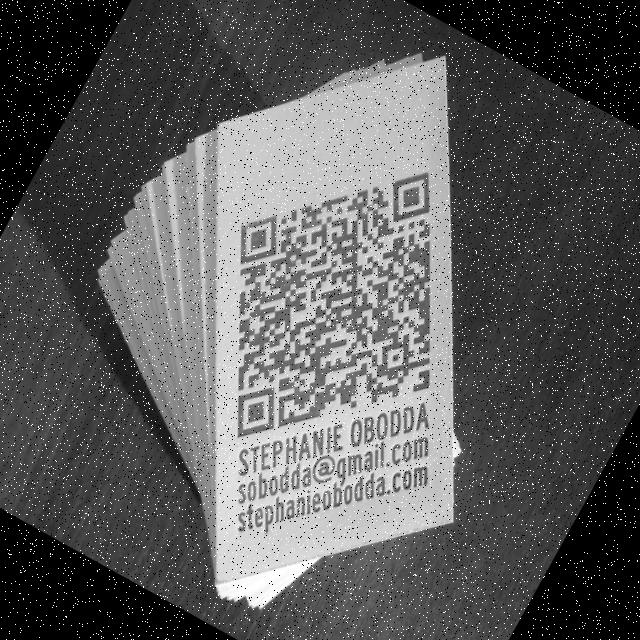QR-codes: (150, 101, 523, 507)
